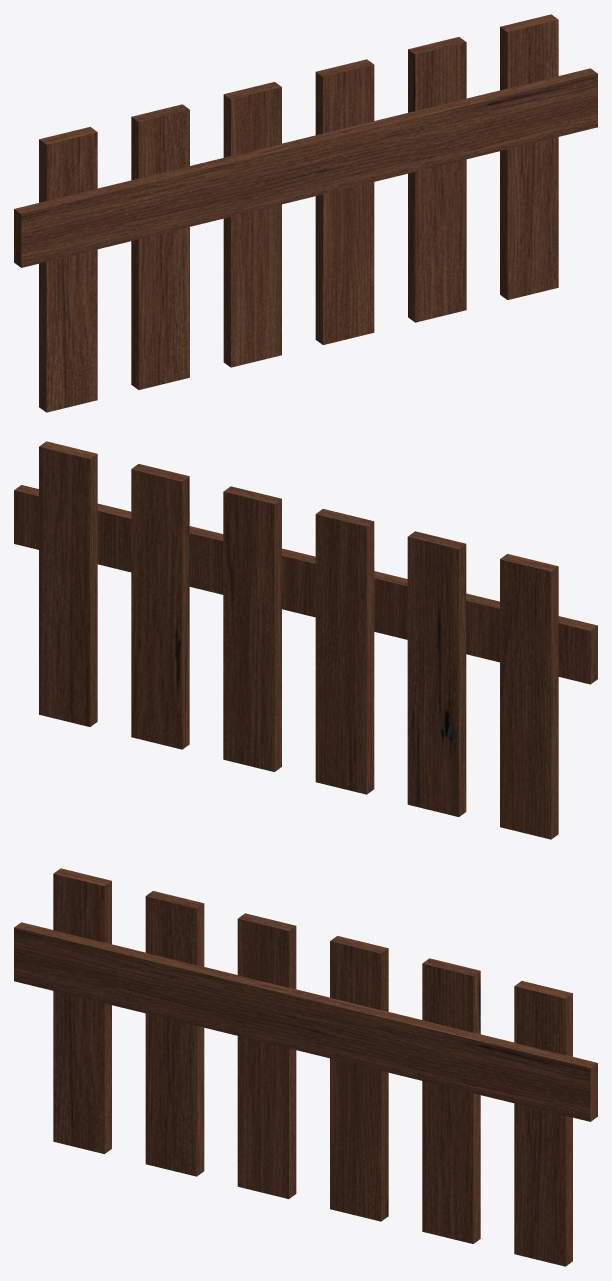
File: Fence.obj
The picture shows the model from 3 angles, top to bottom: view 1: azimuth 30°, elevation 25°; view 2: azimuth 150°, elevation 25°; view 3: azimuth 330°, elevation 25°; orthographic projection.
Parts seen in each view (by area): view 1: Fence; view 2: Fence; view 3: Fence.
Part boxes in pixels (bbox=[...]): Fence: bbox=[14, 14, 597, 412]; Fence: bbox=[14, 441, 597, 839]; Fence: bbox=[14, 868, 597, 1266].
Size of the model in its own units: 2.25 by 1 by 0.0981.
Materials: 1 (1 with a texture image).
